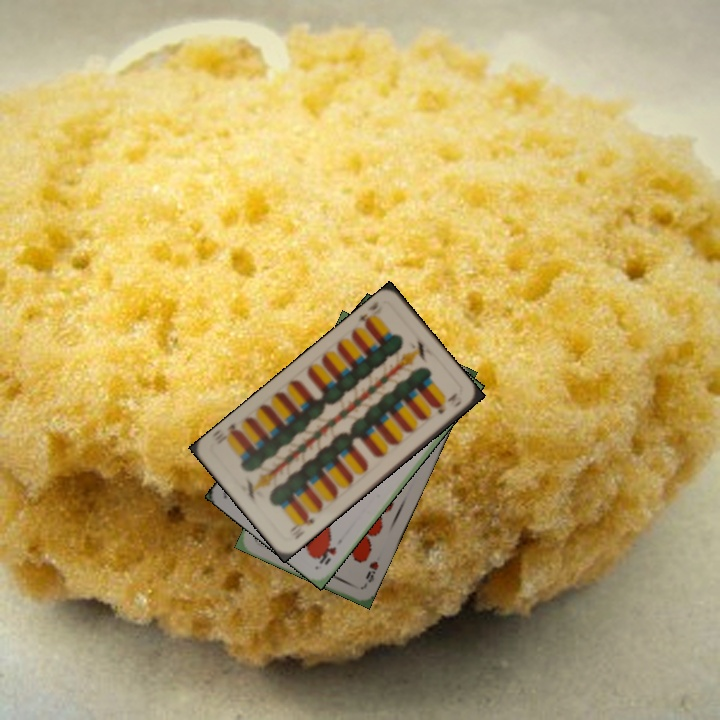E10: (354, 297, 382, 330), (288, 511, 318, 539)
H9: (360, 557, 381, 589)
HO: (315, 540, 339, 567)
